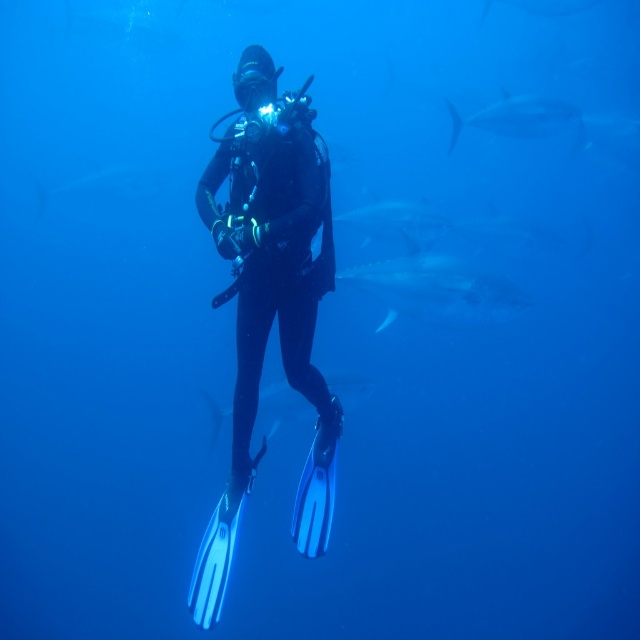Fish: (25, 0, 640, 455)
